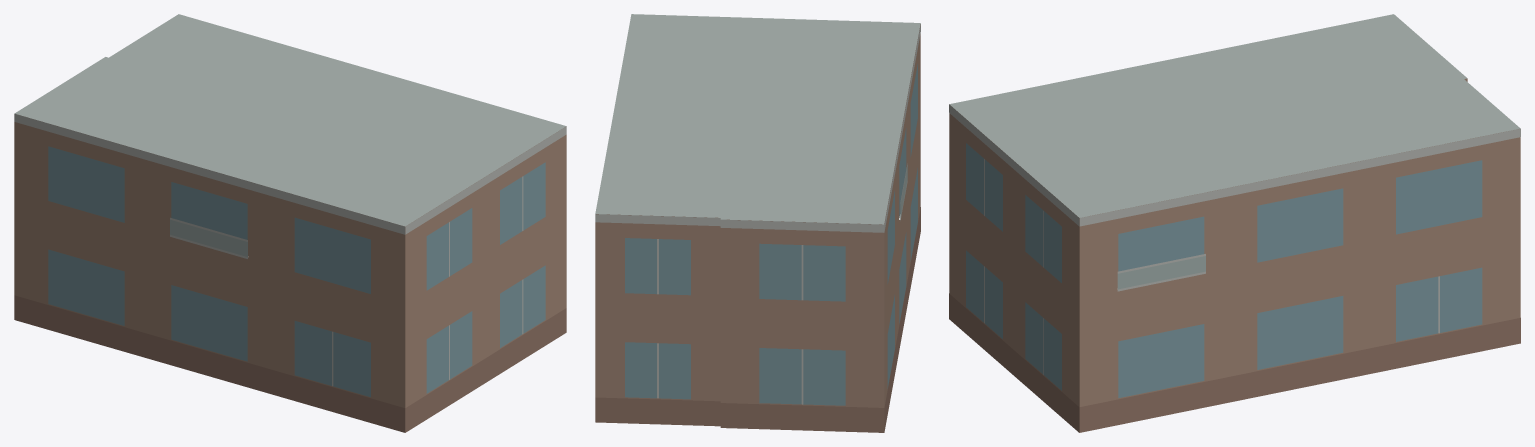
Rendered from survey-upis-32827775.glb.
3 renders of one model, left to right at view 1: azimuth 30°, elevation 25°; view 2: azimuth 150°, elevation 25°; view 3: azimuth 270°, elevation 25°, orthographic. The views are drawn at different scales.
Visible parts, largest first — view 1: survey-upis-32827775.tmp; view 2: survey-upis-32827775.tmp; view 3: survey-upis-32827775.tmp.
Boxes of the visible parts, x1=… form: survey-upis-32827775.tmp: x1=14, y1=14, x2=566, y2=432; survey-upis-32827775.tmp: x1=595, y1=14, x2=920, y2=432; survey-upis-32827775.tmp: x1=949, y1=14, x2=1520, y2=432.
Size of the model in its own units: 12.43 by 6.1 by 14.72.
